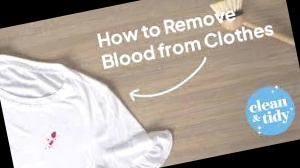blood: (39, 130, 60, 151)
